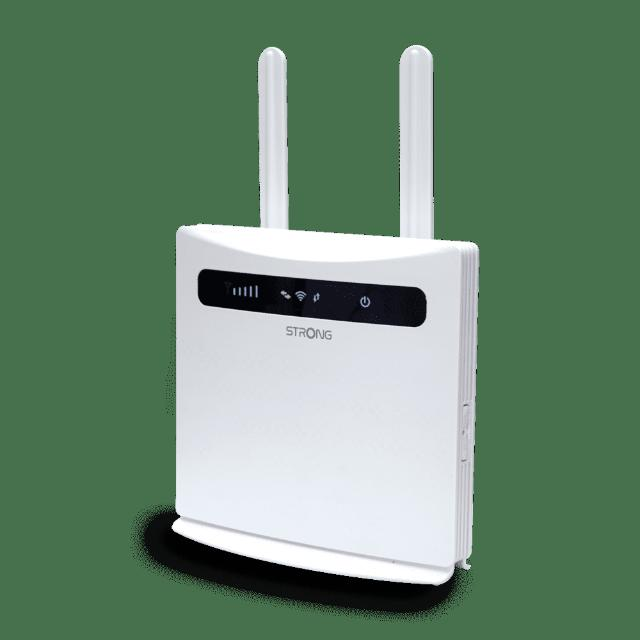Router: (174, 45, 480, 588)
